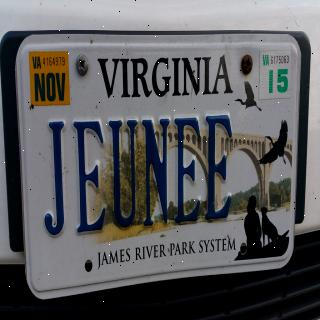license: (18, 34, 300, 304)
